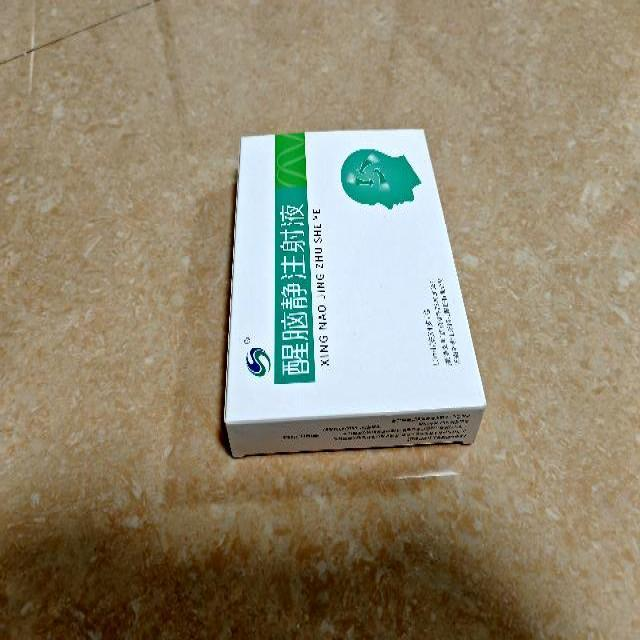box: (224, 128, 486, 458)
